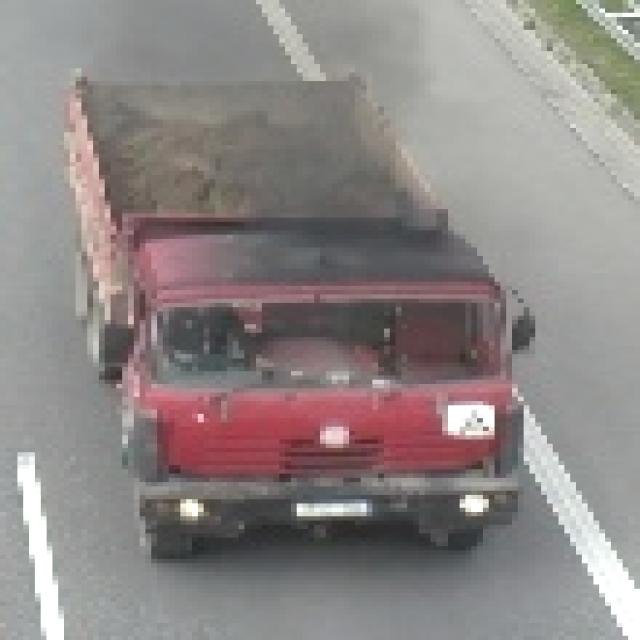truck: (59, 70, 542, 569)
